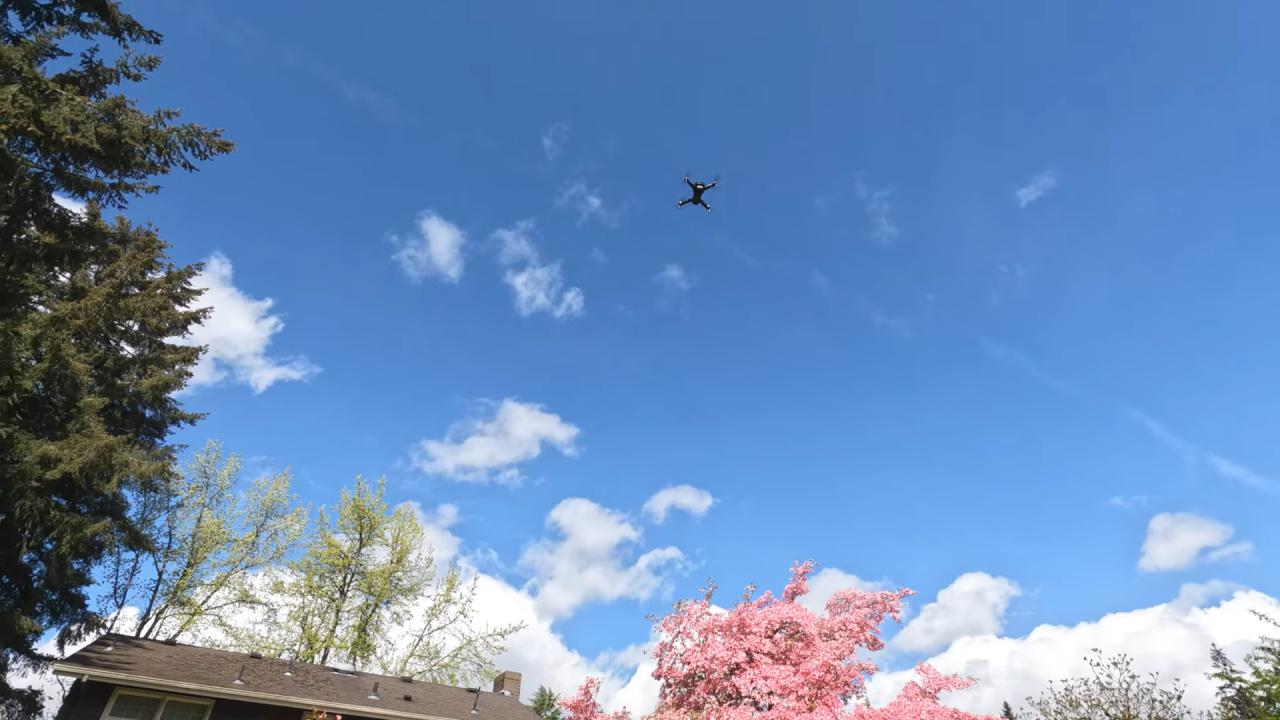Drone: (672, 163, 726, 220)
